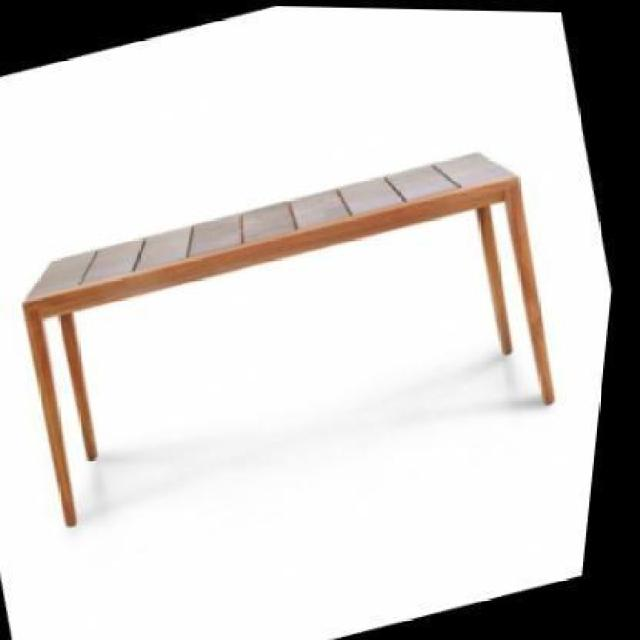tables: (20, 149, 555, 526)
